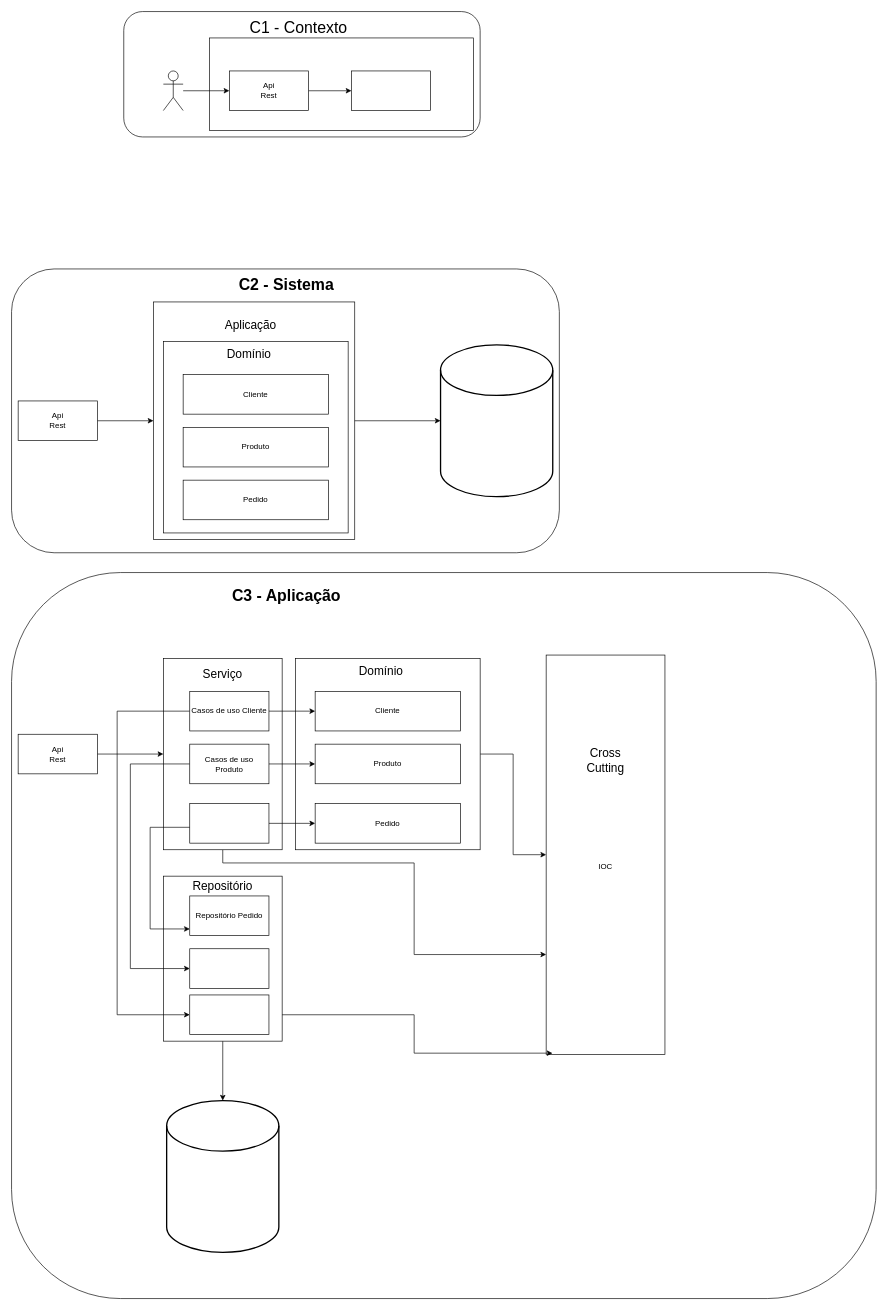
This 888x1310 diagram has some shape labels left out. The shapes that lost their labels are listed below. From the top down, each one's centre as x and y in pixels, then its label:
the point at 173,90: Parceiro
the point at 391,90: Dominio cliente, produto e pedido
the point at 229,823: Casos de uso Pedido
the point at 229,968: Repositório Produto
the point at 229,1014: Repositório Cliente
